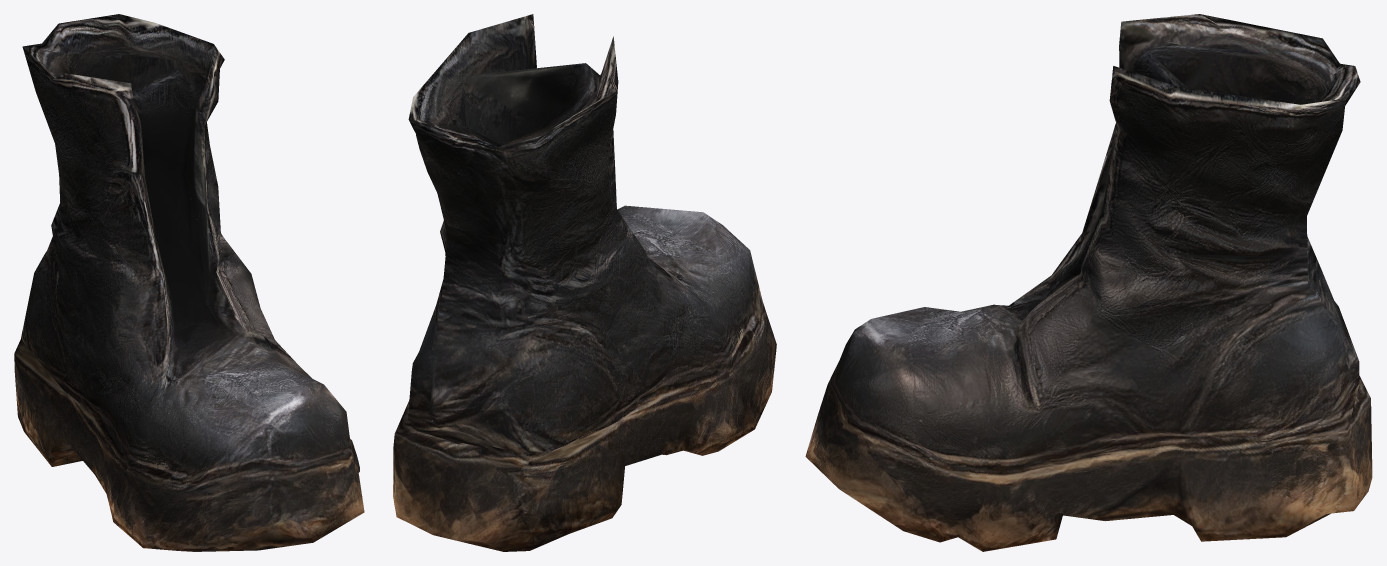
File: boot.glb
3 views of the same model, side by side, from view 1: azimuth 30°, elevation 25°; view 2: azimuth 150°, elevation 25°; view 3: azimuth 270°, elevation 25° (orthographic). The views are drawn at different scales.
Parts seen in each view (by area): view 1: tripo_node_ed0b2fdb-a2c5-405a-9fcc-969eaed68012; view 2: tripo_node_ed0b2fdb-a2c5-405a-9fcc-969eaed68012; view 3: tripo_node_ed0b2fdb-a2c5-405a-9fcc-969eaed68012.
Part boxes in pixels (left/top/right/bottom): tripo_node_ed0b2fdb-a2c5-405a-9fcc-969eaed68012: left=14, top=14, right=364, bottom=551; tripo_node_ed0b2fdb-a2c5-405a-9fcc-969eaed68012: left=393, top=14, right=776, bottom=551; tripo_node_ed0b2fdb-a2c5-405a-9fcc-969eaed68012: left=805, top=14, right=1372, bottom=551.
Size of the model in its own units: 0.4815 by 0.8828 by 1.
Materials: 1 (1 with a texture image).
